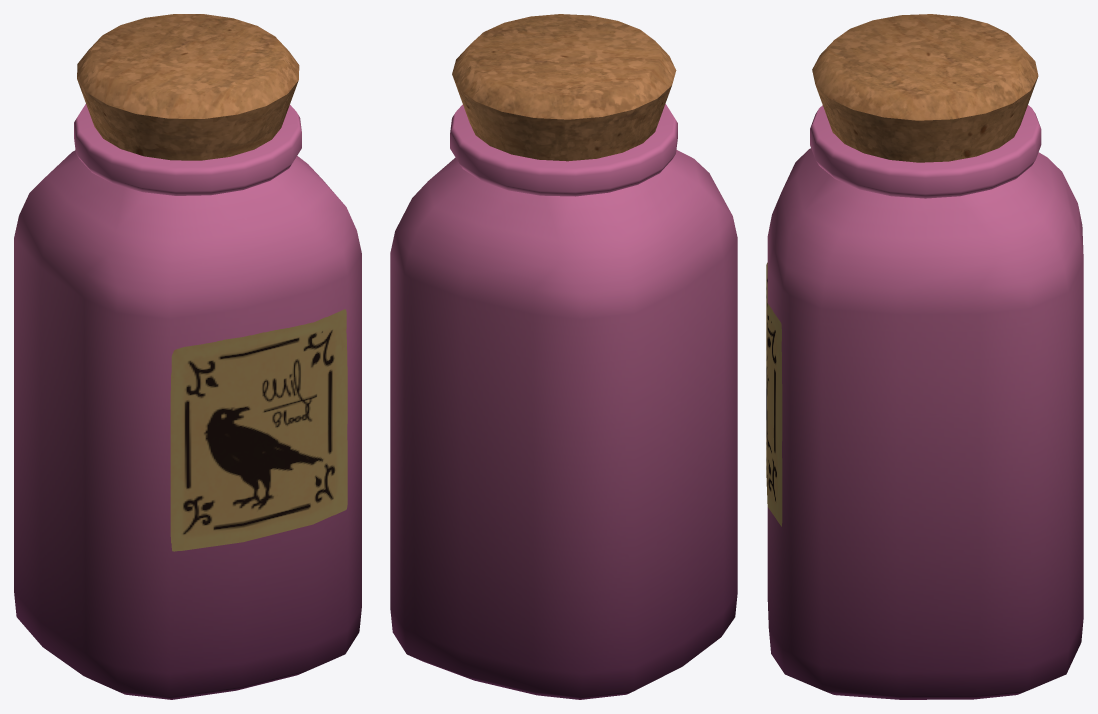
File: SM_Potion_Props_Bottle_Medium_05_B.fbx
3 renders of one model, left to right at view 1: azimuth 30°, elevation 25°; view 2: azimuth 150°, elevation 25°; view 3: azimuth 270°, elevation 25°, orthographic.
Visible parts, largest first — view 1: SM_Potion_Props_Bottle_Medium_05_B_LOD0; view 2: SM_Potion_Props_Bottle_Medium_05_B_LOD0; view 3: SM_Potion_Props_Bottle_Medium_05_B_LOD0.
Part boxes in pixels (<box>): SM_Potion_Props_Bottle_Medium_05_B_LOD0: <box>14,14,361,699</box>; SM_Potion_Props_Bottle_Medium_05_B_LOD0: <box>390,14,737,699</box>; SM_Potion_Props_Bottle_Medium_05_B_LOD0: <box>766,14,1083,699</box>.
Size of what is drawn, in the model's own units: 13.37 by 27.69 by 13.58.
